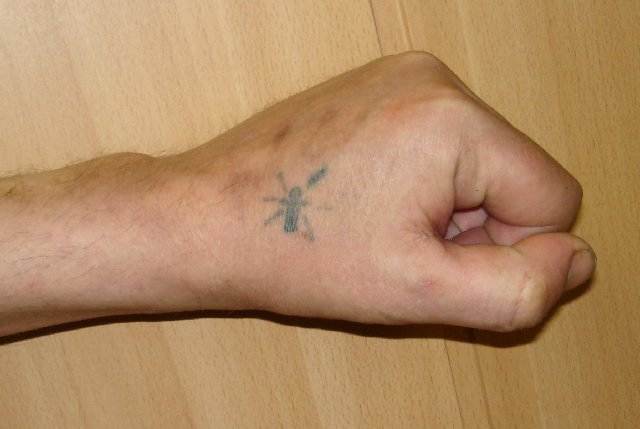tatu9_krest: (278, 182, 314, 243)
